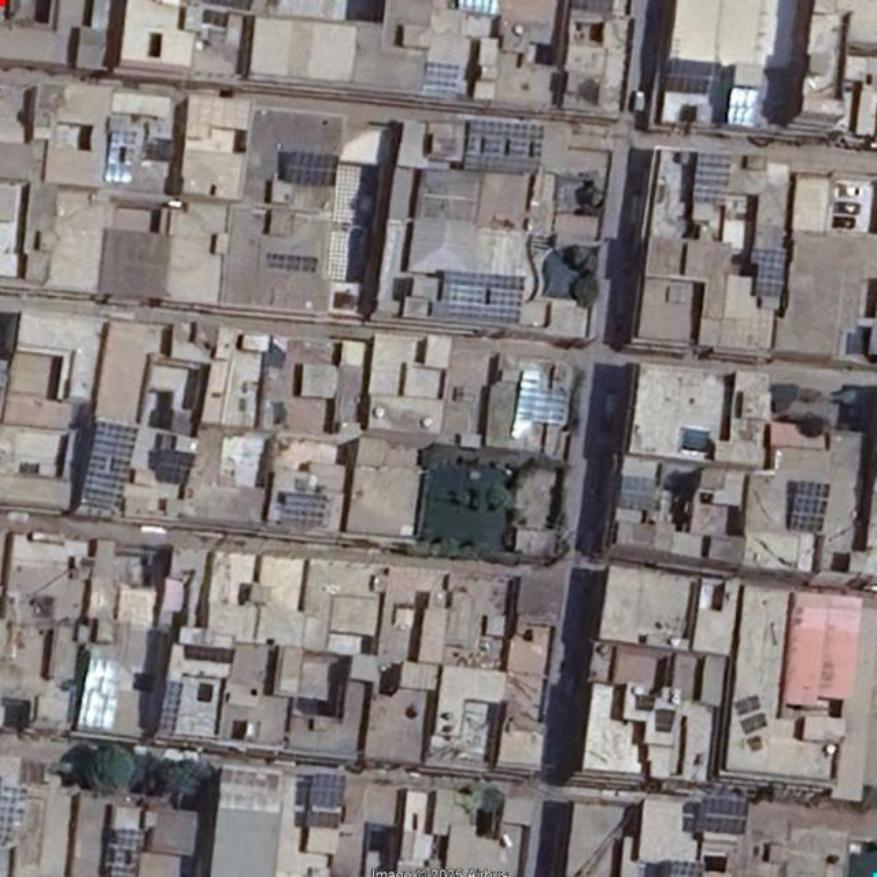Solarpanel: (78, 420, 138, 510), (439, 269, 525, 322), (465, 119, 545, 172), (77, 660, 124, 727), (692, 151, 732, 203), (790, 480, 831, 530), (694, 798, 749, 835), (663, 59, 721, 94), (746, 247, 788, 295), (103, 128, 138, 183), (286, 152, 340, 187), (108, 829, 145, 876), (155, 450, 194, 486), (282, 493, 328, 522), (425, 62, 461, 98), (309, 774, 346, 807), (668, 862, 703, 876)
